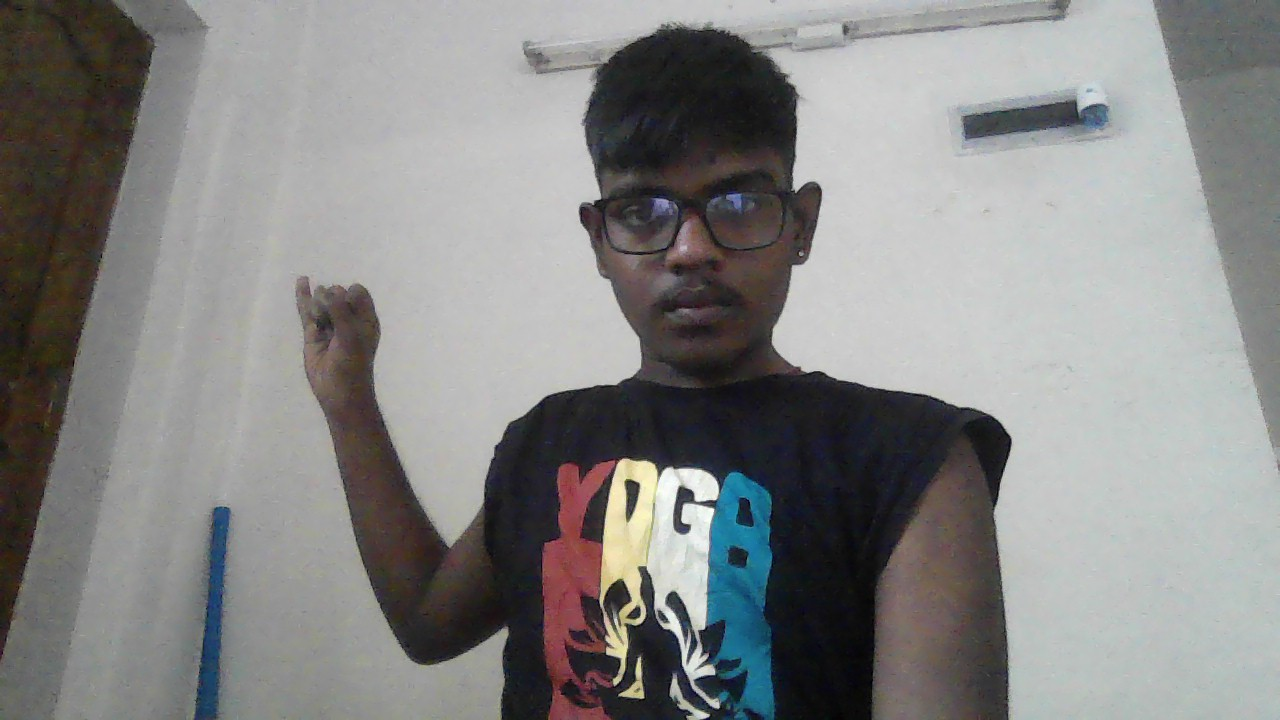I: (293, 274, 380, 409)
